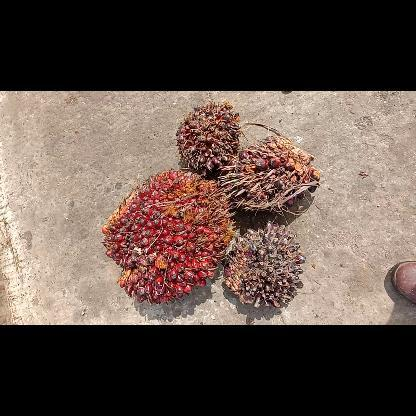TBS abnormal: (218, 133, 322, 215), (222, 220, 308, 310), (174, 100, 240, 178)
TBS masak: (100, 167, 234, 306)
